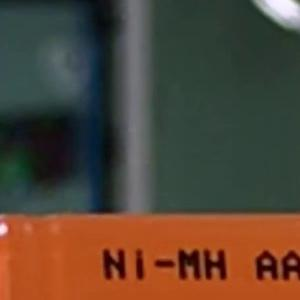keyword: (93, 240, 236, 289)
